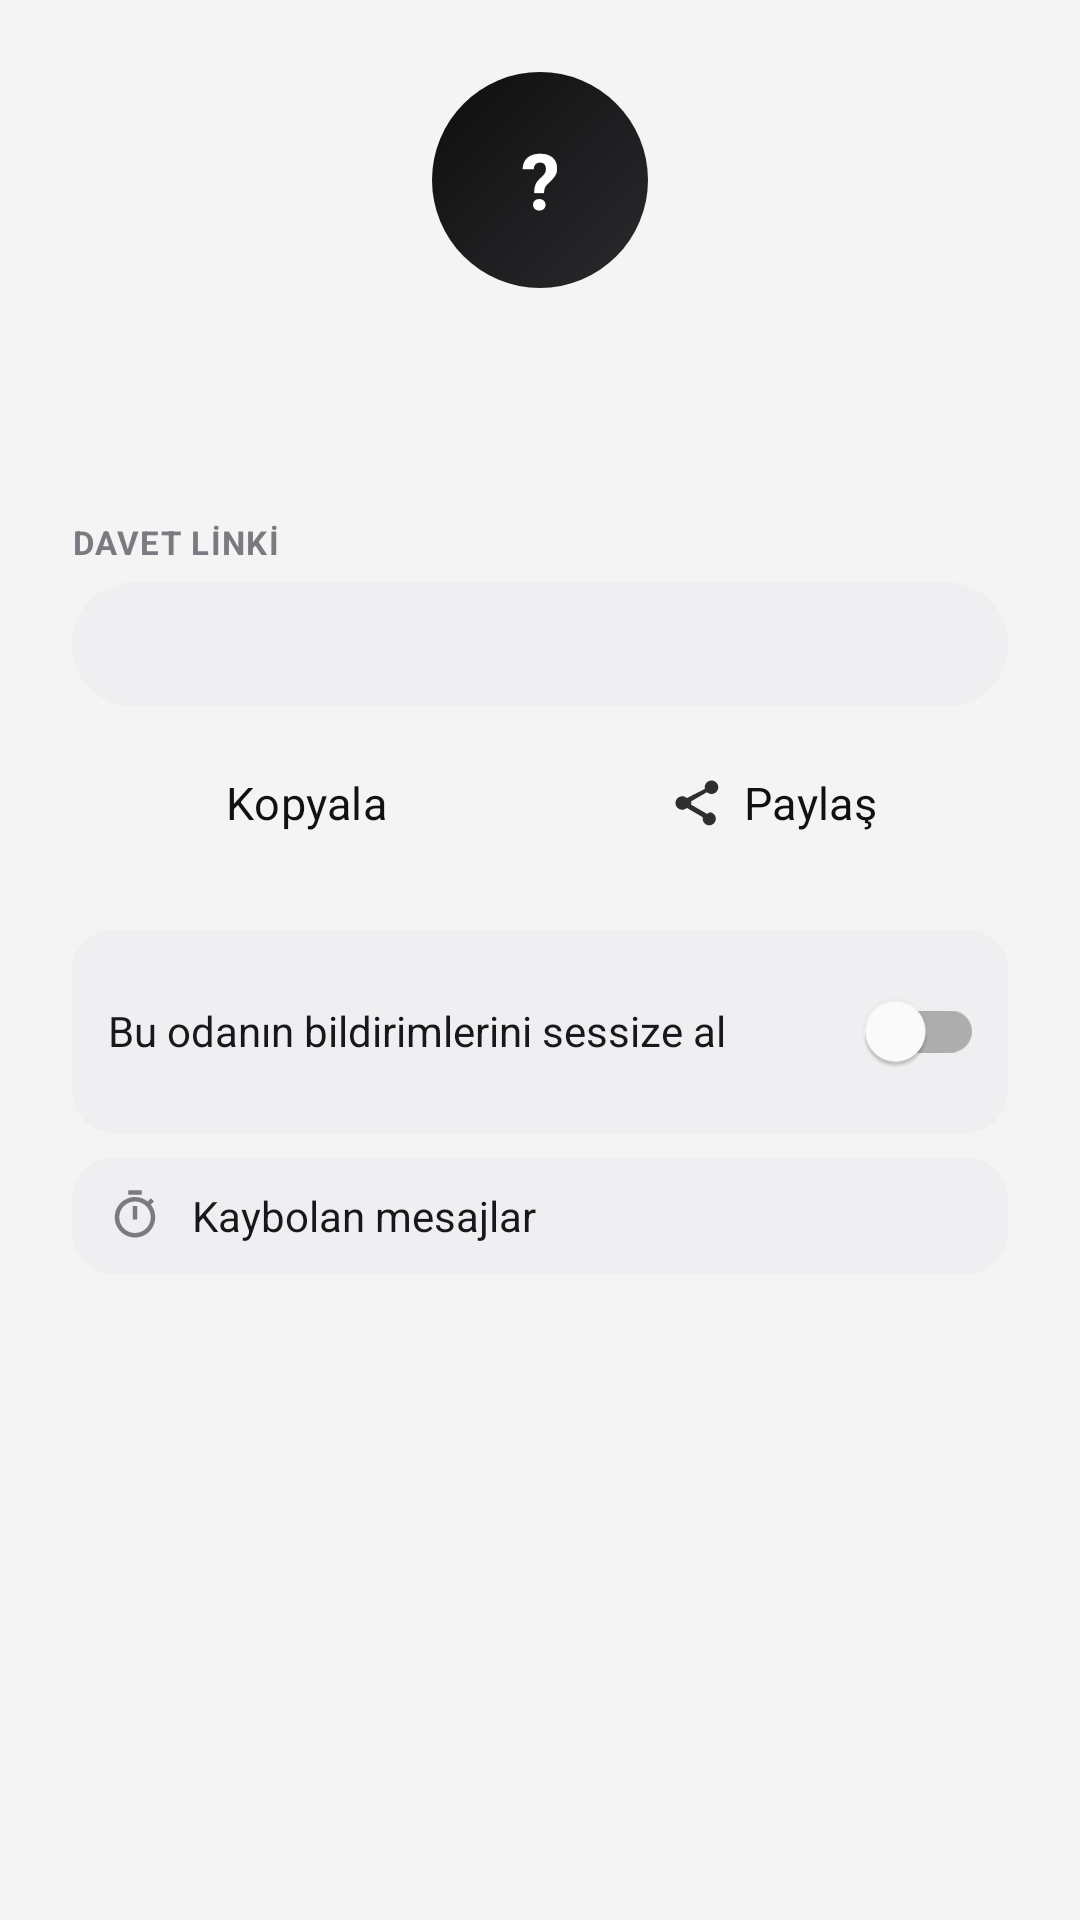

Icon bounding boxes for this 1080w x 1920h phone screenshot, format box(x1, y1, x2, y2):
timer: box(114, 1190, 156, 1238)
